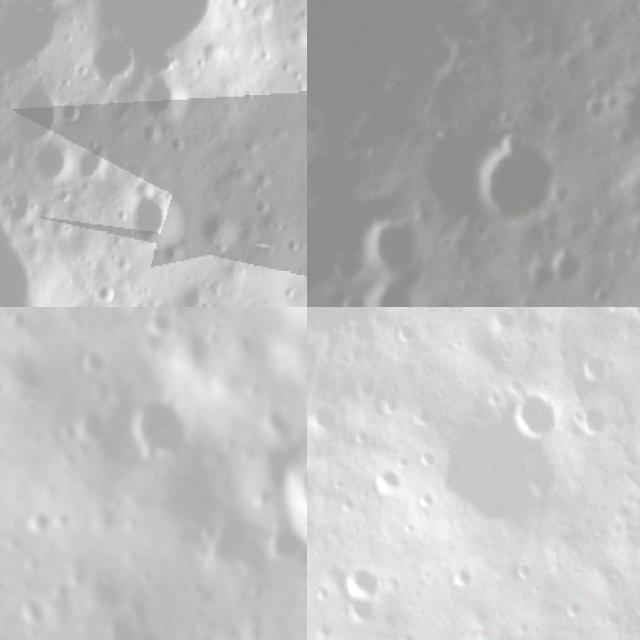crater: (307, 0, 578, 128), (399, 393, 581, 556), (476, 131, 569, 227), (113, 383, 195, 471), (270, 422, 307, 568), (370, 206, 435, 286), (9, 66, 69, 147), (77, 30, 146, 96), (124, 186, 190, 252), (502, 381, 564, 447), (135, 71, 197, 127), (568, 395, 624, 451), (360, 267, 438, 307), (26, 136, 76, 190), (337, 554, 388, 606), (569, 340, 620, 389), (76, 134, 123, 184), (198, 204, 246, 252), (365, 459, 413, 506), (70, 405, 111, 449), (551, 250, 596, 290), (341, 589, 385, 628), (307, 395, 345, 440), (68, 343, 110, 383), (616, 155, 640, 224), (483, 307, 526, 345), (448, 557, 486, 594), (584, 90, 621, 124), (508, 555, 535, 582), (333, 293, 371, 307)
